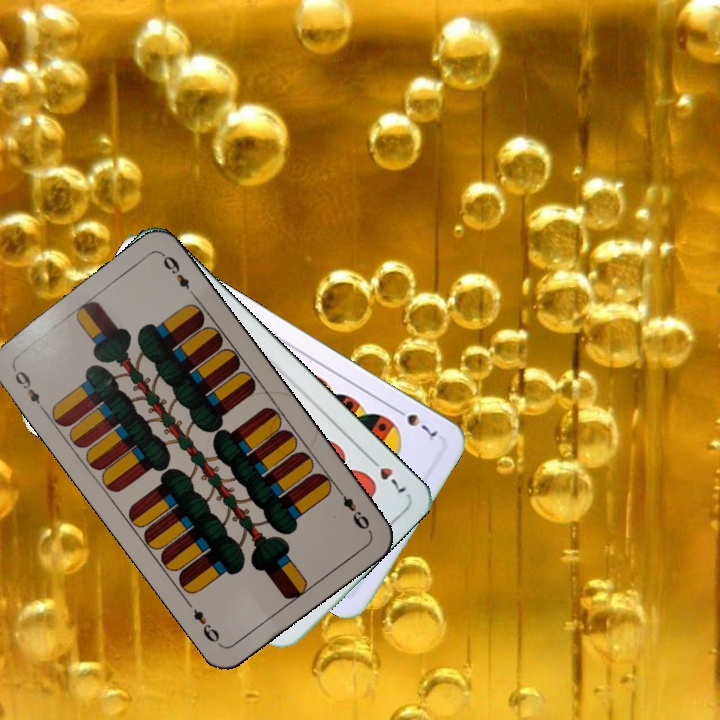E9: (332, 484, 374, 535), (8, 364, 48, 415)
H7: (363, 451, 409, 496)
S7: (390, 403, 441, 444)
